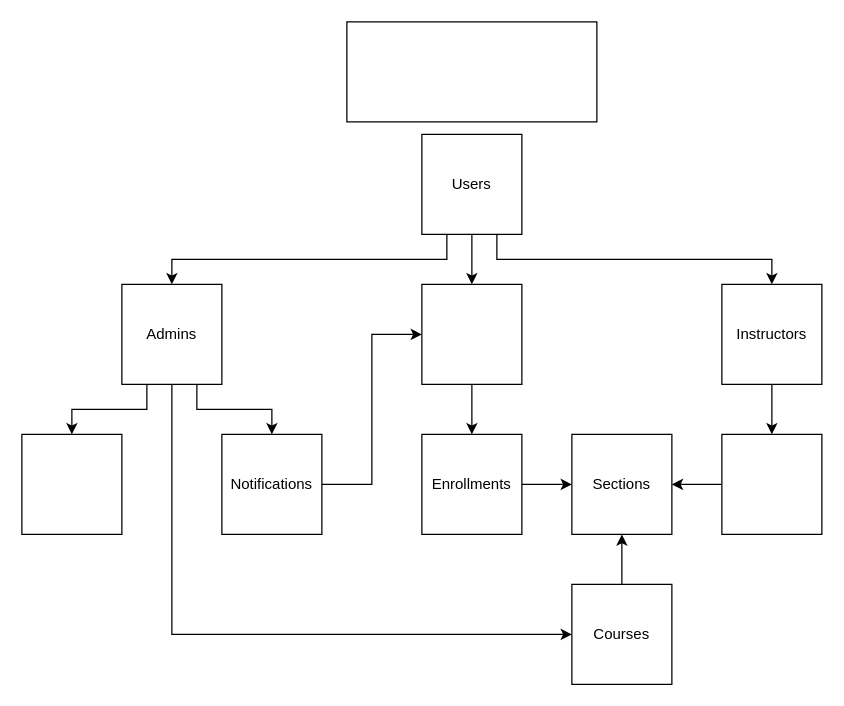
Some shapes in this 844 by 706 pixel diagram are drawn without their labels. Here are the shapes that lost their labels. From the top down, the box of each, then its label:
(346, 21, 597, 122): "Things" Sketch (Relations)
(421, 283, 522, 384): Students
(21, 433, 122, 534): Settings
(721, 433, 822, 534): Grades
